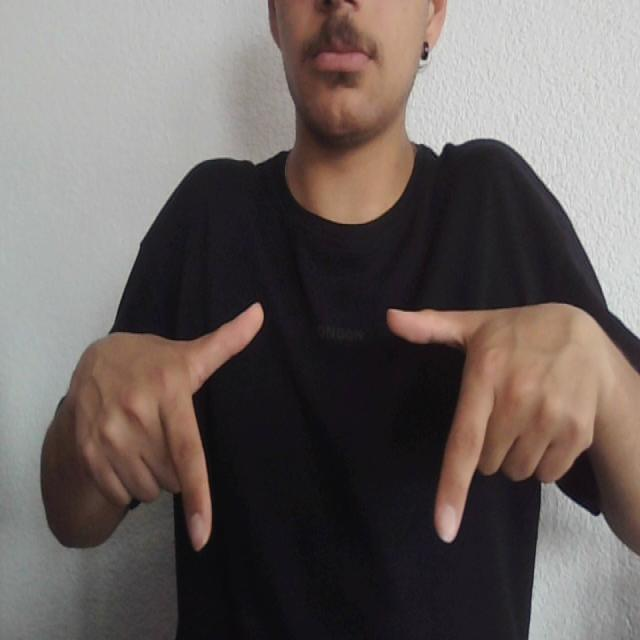Nerede: (165, 294, 510, 563)
